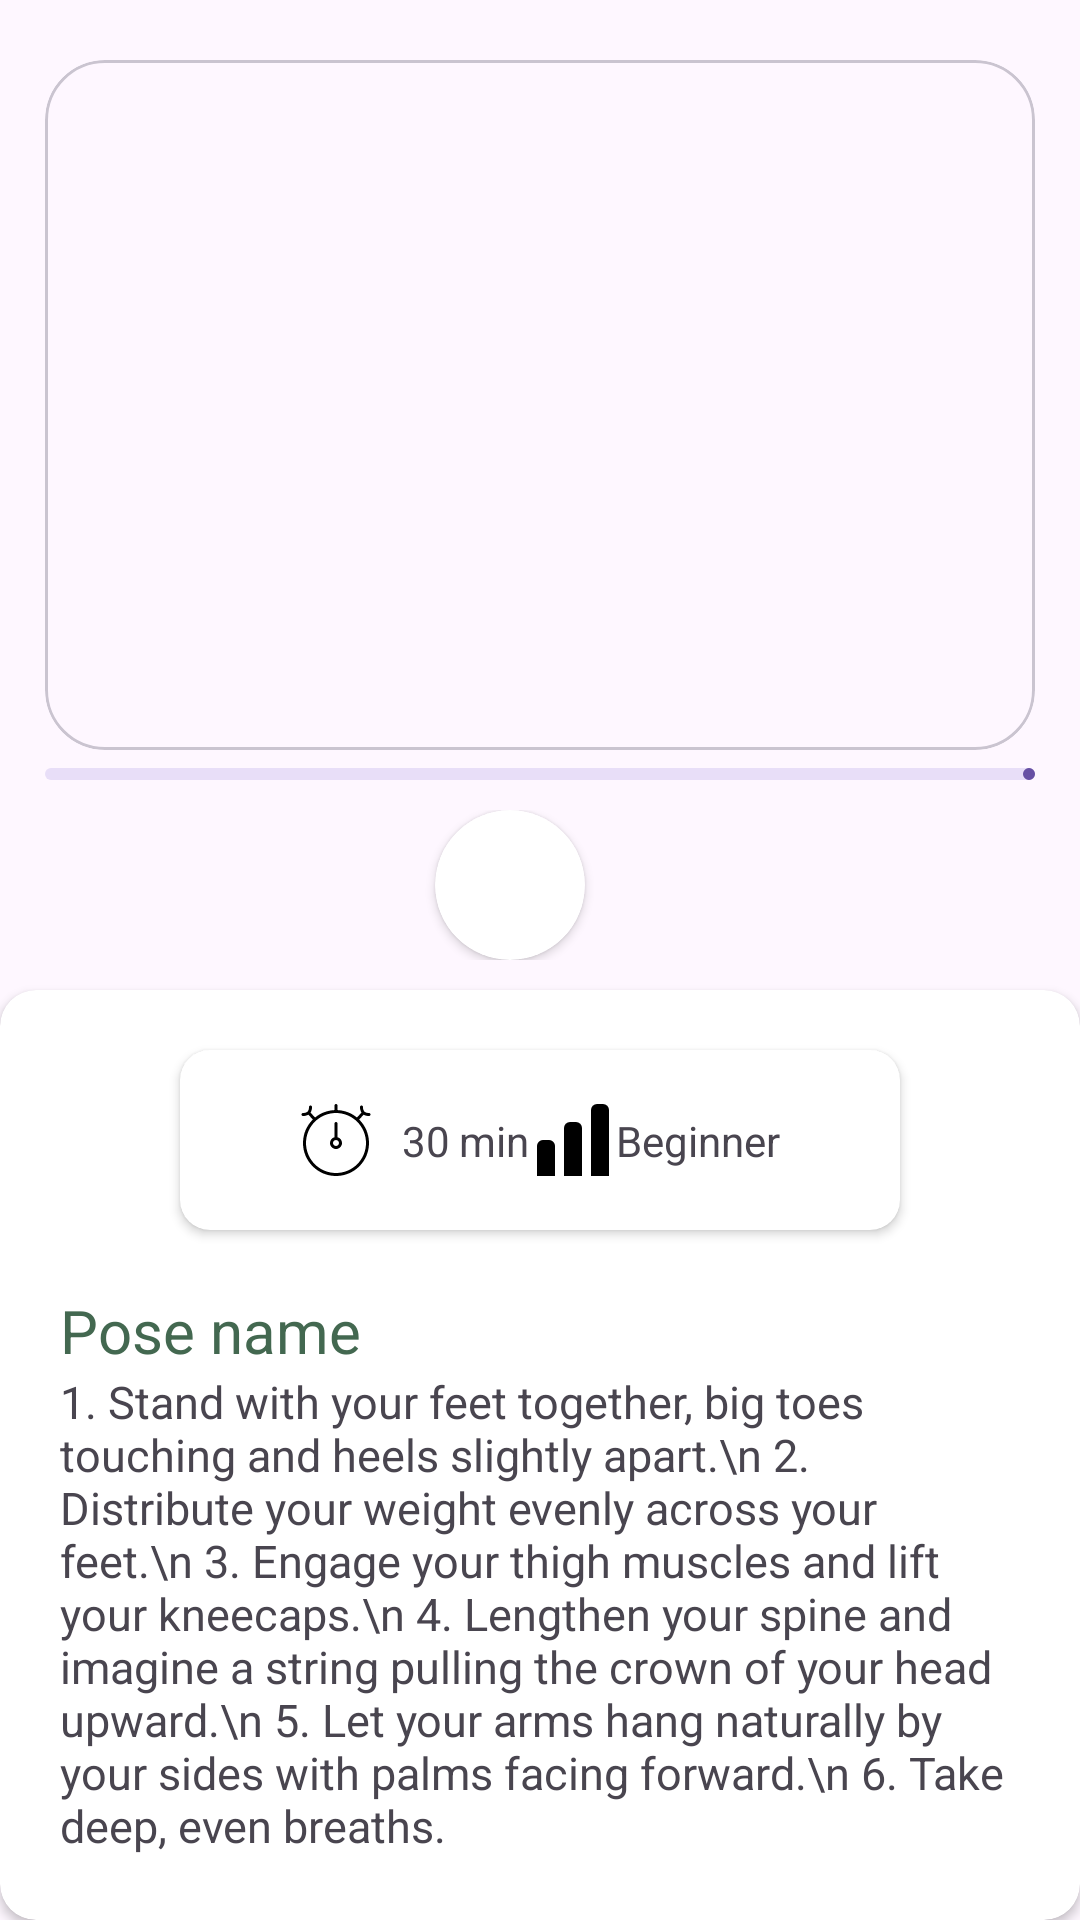

Named icons in this screenshot (1080w x 1920h) and their bounding boxes, bbox=[x1, y1, x2, y2]:
signal: bbox=[537, 1104, 609, 1176]
stopwatch: bbox=[301, 1104, 371, 1176]
